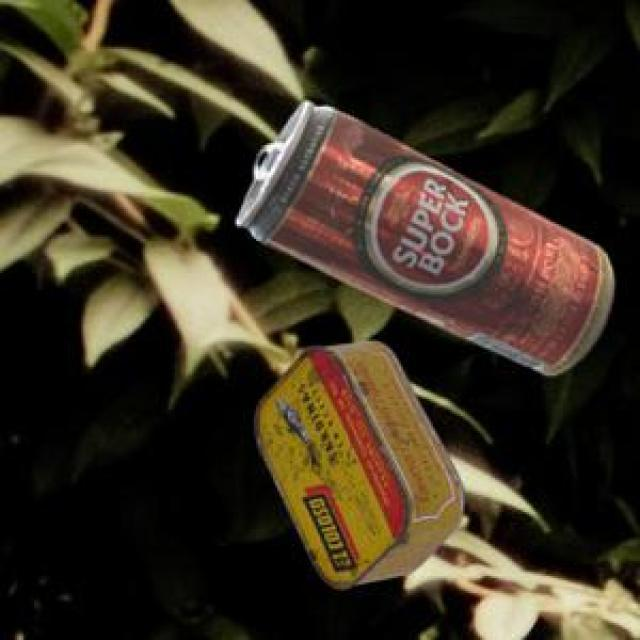Can: (234, 99, 611, 372), (253, 338, 462, 586)
